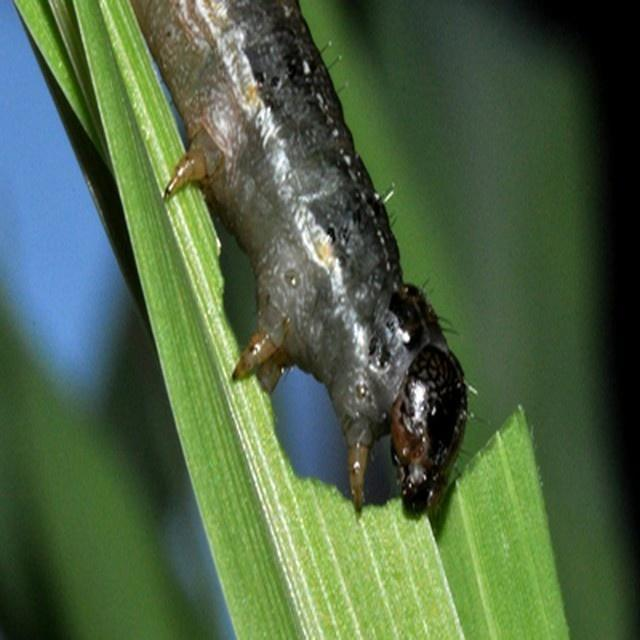gusano_cogollero: (132, 0, 478, 523)
